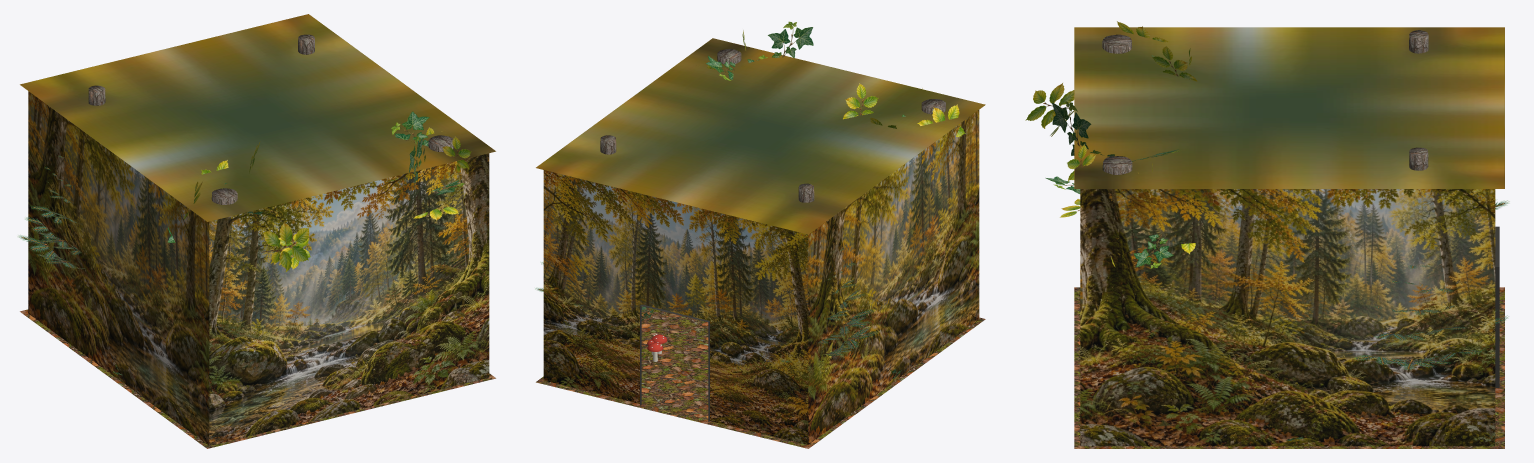
Rendered from forest.glb.
The picture shows the model from 3 angles, left to right: view 1: azimuth 30°, elevation 25°; view 2: azimuth 150°, elevation 25°; view 3: azimuth 270°, elevation 25°; orthographic projection. The views are drawn at different scales.
Visible parts, largest first — view 1: Mural.forest.back, Mural.forest.ceiling, Mural.forest.right, Card.forest.leaves-1, Floor, Bark.forest, Card.forest.leaves-0, Card.forest.leaves-3; view 2: Mural.forest.front, Mural.forest.ceiling, Mural.forest.right, Floor, Card.forest.leaves-0, Card.forest.leaves-3, Bark.forest, Card.forest.leaves-1, Trim; view 3: Mural.forest.left, Mural.forest.ceiling, Floor, Card.forest.leaves-1, Card.forest.leaves-3, Bark.forest, Card.forest.leaves-0, Trim.
Boxes of the visible parts, left/top/right/bottom form: Mural.forest.back: left=209, top=153, right=489, bottom=445; Mural.forest.ceiling: left=20, top=14, right=495, bottom=221; Mural.forest.right: left=28, top=91, right=209, bottom=445; Card.forest.leaves-1: left=184, top=127, right=471, bottom=272; Floor: left=20, top=309, right=495, bottom=448; Bark.forest: left=88, top=34, right=453, bottom=204; Card.forest.leaves-0: left=18, top=156, right=84, bottom=269; Card.forest.leaves-3: left=113, top=111, right=464, bottom=375; Mural.forest.front: left=543, top=170, right=808, bottom=444; Mural.forest.ceiling: left=536, top=38, right=985, bottom=234; Mural.forest.right: left=808, top=110, right=979, bottom=444; Floor: left=536, top=307, right=985, bottom=448; Card.forest.leaves-0: left=535, top=249, right=878, bottom=362; Card.forest.leaves-3: left=641, top=21, right=946, bottom=378; Bark.forest: left=600, top=49, right=946, bottom=202; Card.forest.leaves-1: left=699, top=30, right=965, bottom=137; Trim: left=640, top=304, right=709, bottom=421; Mural.forest.left: left=1080, top=189, right=1495, bottom=446; Mural.forest.ceiling: left=1074, top=27, right=1504, bottom=188; Floor: left=1074, top=287, right=1504, bottom=448; Card.forest.leaves-1: left=1025, top=21, right=1197, bottom=267; Card.forest.leaves-3: left=1045, top=55, right=1303, bottom=440; Bark.forest: left=1080, top=30, right=1428, bottom=428; Card.forest.leaves-0: left=1354, top=199, right=1509, bottom=369; Trim: left=1495, top=226, right=1499, bottom=388.
Bounding box in the file's own units: 9.99 × 7.34 × 10.57.
Materials: 16 (12 with a texture image).
